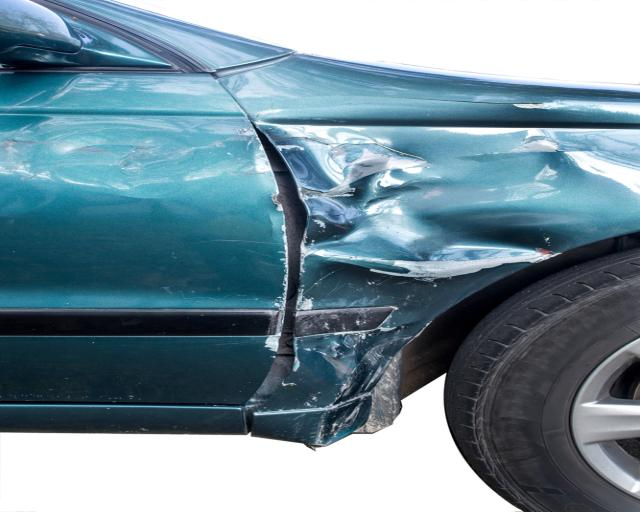dent: (260, 125, 602, 370), (0, 121, 256, 193)
